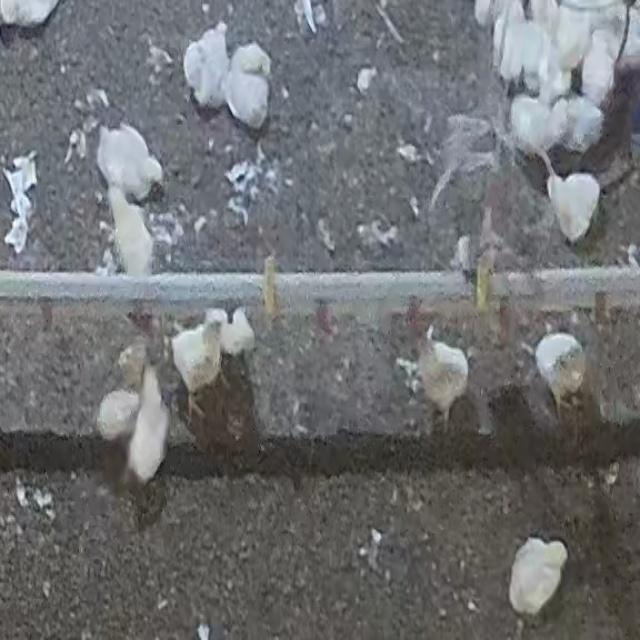chicken: (412, 333, 471, 435), (95, 119, 167, 202), (123, 365, 172, 483), (170, 316, 224, 422), (508, 533, 570, 617), (508, 92, 572, 172), (105, 183, 157, 274), (182, 18, 233, 110), (543, 171, 605, 243), (537, 330, 588, 415), (220, 67, 274, 133)
